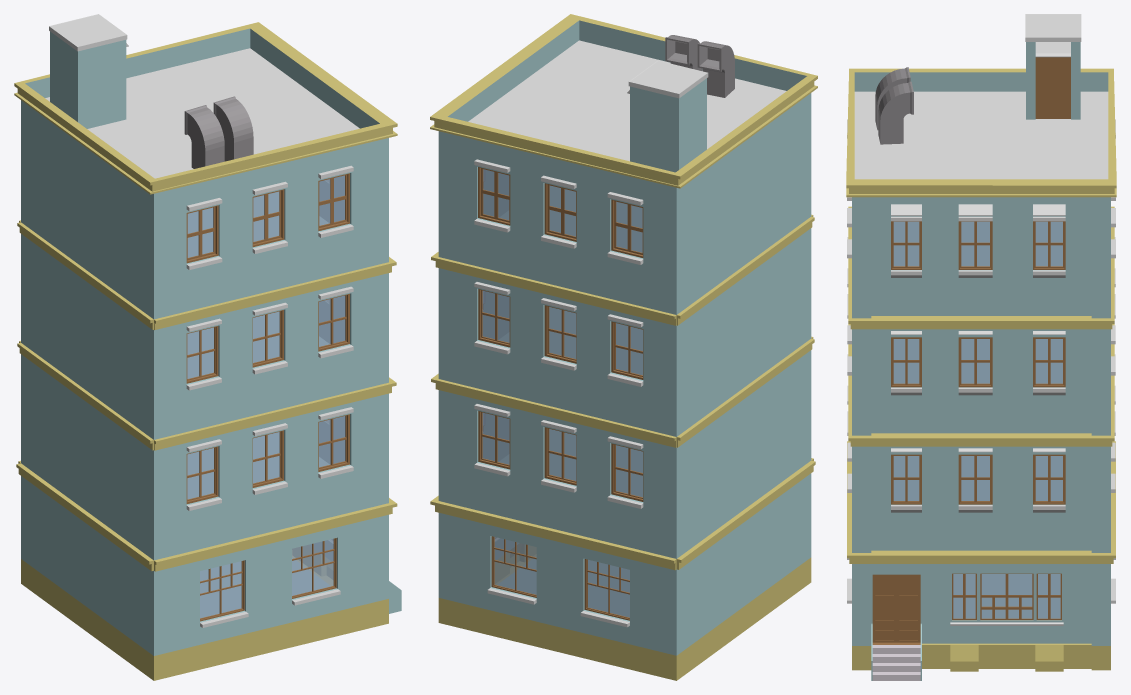
The model's file is Building1.fbx.
The picture shows the model from 3 angles, left to right: view 1: azimuth 30°, elevation 25°; view 2: azimuth 150°, elevation 25°; view 3: azimuth 270°, elevation 25°; orthographic projection. The views are drawn at different scales.
Parts seen in each view (by area): view 1: Cube.001, Cube.004, Cube; view 2: Cube.001, Cube.004, Cube; view 3: Cube.004, Cube.001, Cube, Cube.002.
Boxes of the visible parts, left/top/right/bottom form: Cube.001: left=17, top=220, right=396, bottom=560; Cube.004: left=14, top=14, right=397, bottom=319; Cube: left=16, top=432, right=397, bottom=680; Cube.001: left=431, top=214, right=814, bottom=558; Cube.004: left=430, top=14, right=817, bottom=314; Cube: left=430, top=430, right=815, bottom=680; Cube.004: left=846, top=14, right=1116, bottom=318; Cube.001: left=847, top=206, right=1115, bottom=552; Cube: left=847, top=441, right=1115, bottom=671; Cube.002: left=871, top=623, right=921, bottom=680.
Size of the model in its own units: 228 by 469 by 209.
